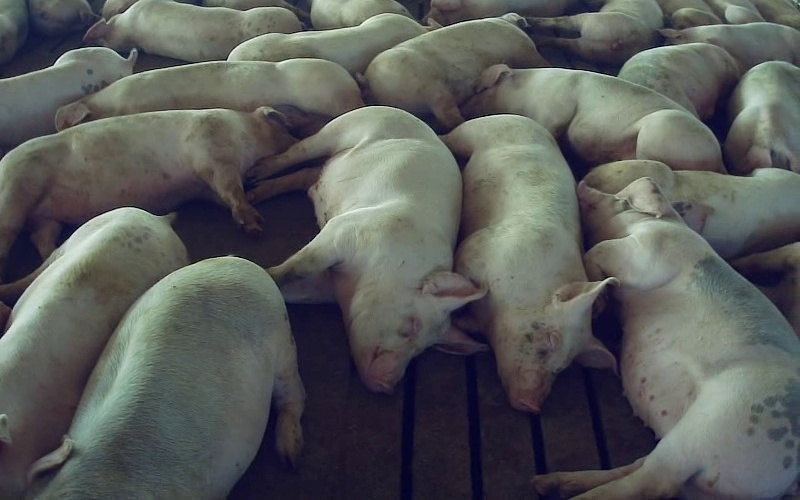pig: (537, 177, 799, 499), (251, 106, 487, 392), (37, 257, 304, 499), (0, 207, 187, 496), (443, 115, 617, 412), (0, 107, 294, 277), (462, 64, 724, 170), (55, 58, 363, 136), (364, 13, 547, 130), (583, 160, 799, 259), (0, 47, 136, 155), (83, 0, 300, 61), (618, 43, 739, 120), (527, 0, 663, 64), (724, 61, 799, 173), (661, 22, 799, 72)
